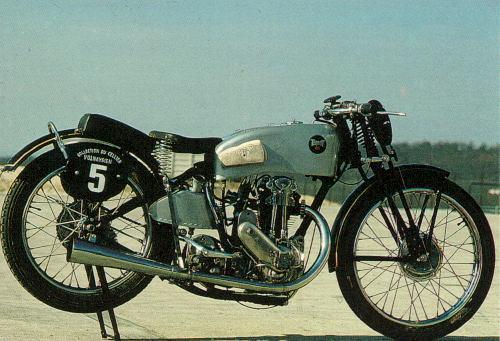motorcycle: (1, 87, 499, 341)
